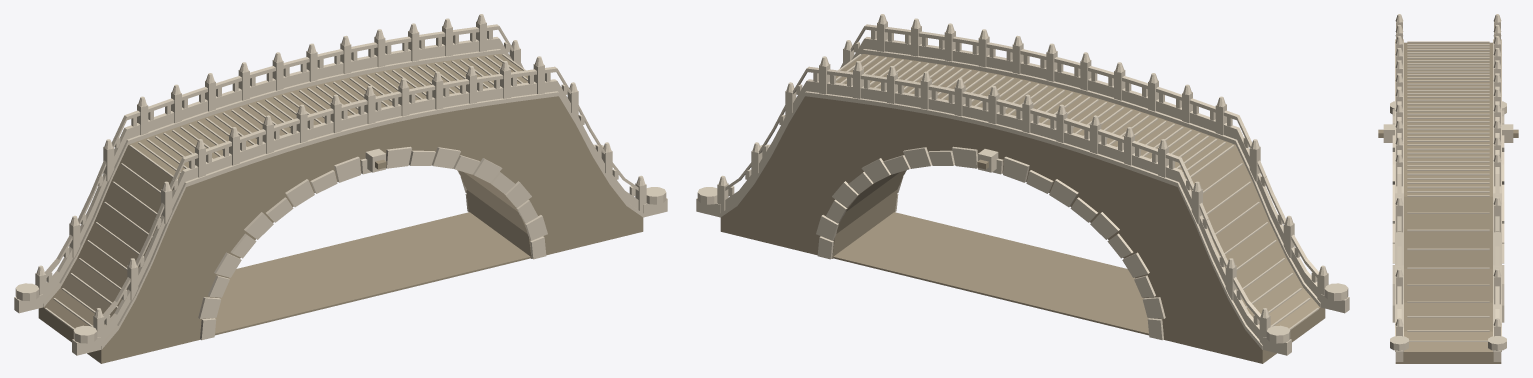
3 views of the same model, side by side, from view 1: azimuth 30°, elevation 25°; view 2: azimuth 150°, elevation 25°; view 3: azimuth 270°, elevation 25° (orthographic). The views are drawn at different scales.
Visible parts, largest first — view 1: K11a; view 2: K11a; view 3: K11a.
Boxes of the visible parts, x1,y1,x2,y2 form: K11a: (14, 14, 667, 363); K11a: (696, 14, 1349, 363); K11a: (1378, 14, 1518, 363).
Bounding box in the file's own units: 21.8 × 7.38 × 5.3.
